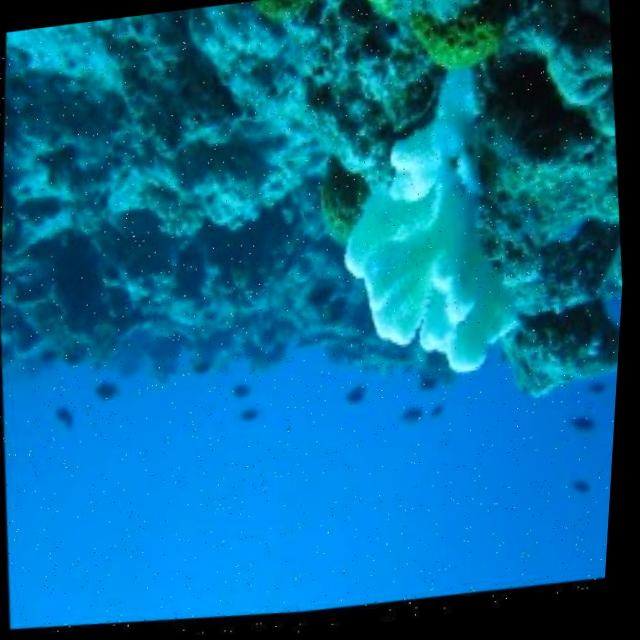Bleached Coral: (286, 31, 574, 456)
